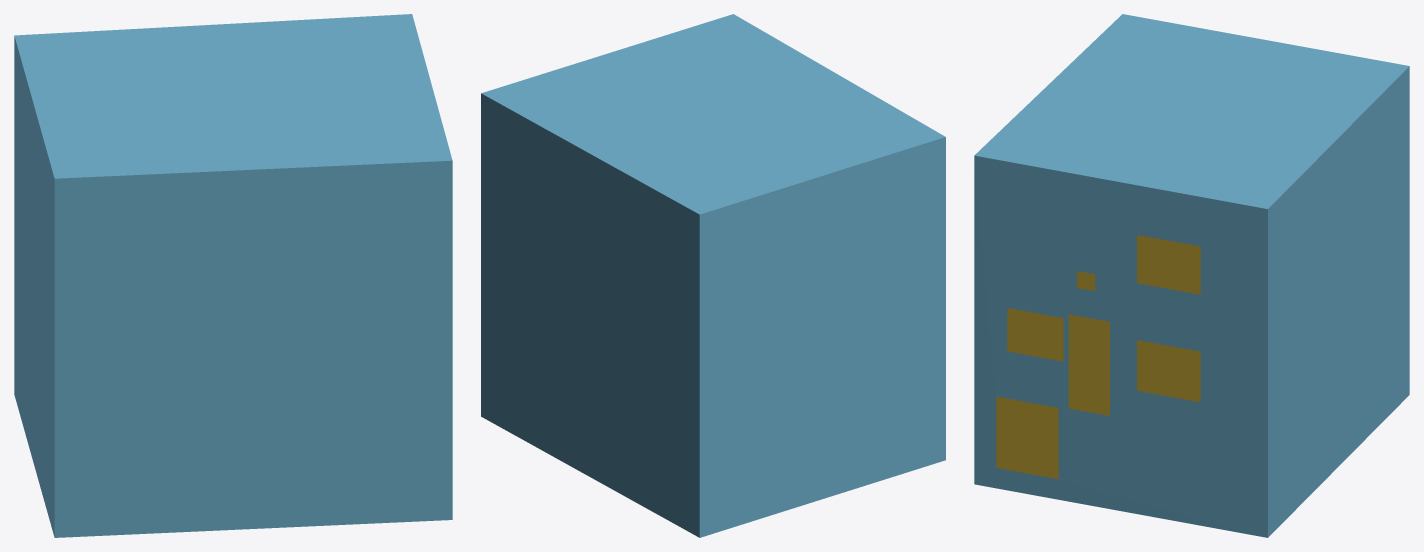
The model's file is bldg_1185f4d5-95c6-4c6b-b398-db3651ef4ba5.obj.
3 renders of one model, left to right at view 1: azimuth 30°, elevation 25°; view 2: azimuth 150°, elevation 25°; view 3: azimuth 270°, elevation 25°, orthographic. The views are drawn at different scales.
Bounding box in the file's own units: 11.58 × 9.1 × 10.92.
